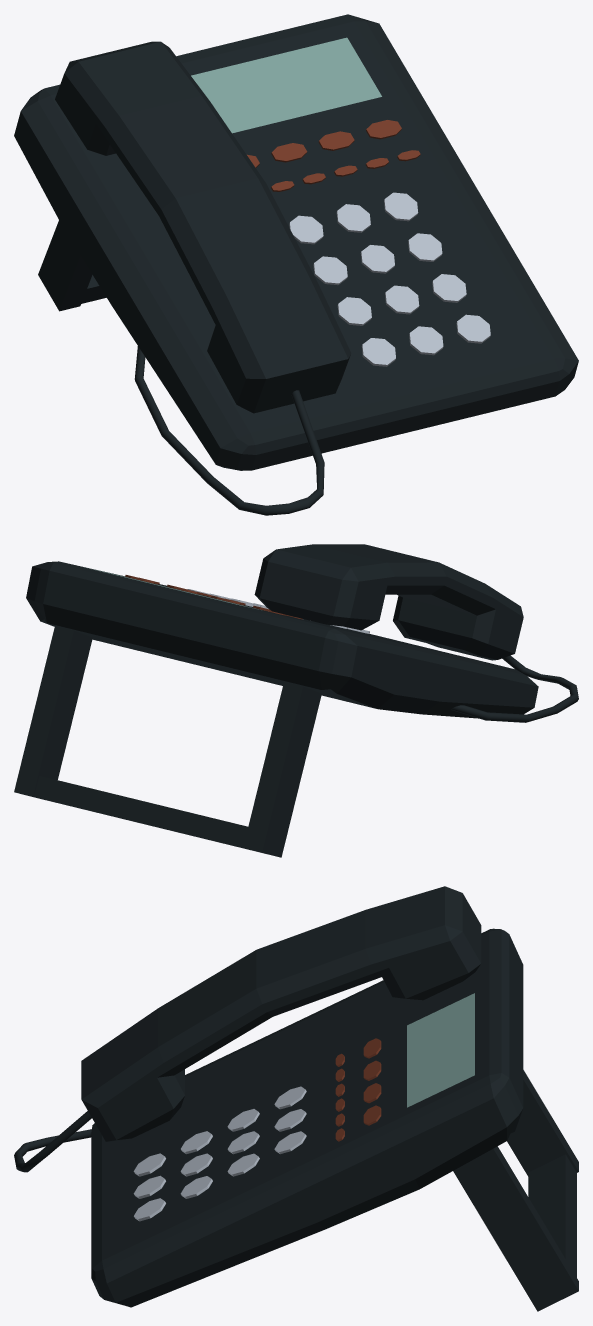
Rendered from SM_Props_Phone_01.fbx.
The picture shows the model from 3 angles, top to bottom: view 1: azimuth 30°, elevation 25°; view 2: azimuth 150°, elevation 25°; view 3: azimuth 270°, elevation 25°; orthographic projection. The views are drawn at different scales.
Visible parts, largest first — view 1: SM_Props_Phone_01; view 2: SM_Props_Phone_01; view 3: SM_Props_Phone_01.
Boxes of the visible parts, <box> form: SM_Props_Phone_01: <box>14,14,578,515</box>; SM_Props_Phone_01: <box>14,544,578,857</box>; SM_Props_Phone_01: <box>14,886,578,1311</box>.
Bounding box in the file's own units: 0.1822 × 0.1325 × 0.24.
